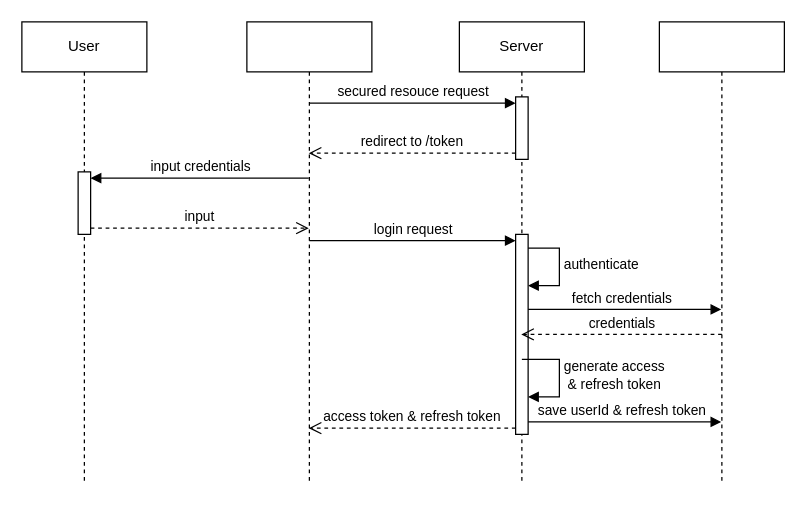
Some shapes in this 806 by 506 pixel diagram are drawn without their labels. The shapes that lost their labels are listed below. From the top down, each one's box as (x1, y1, x2, y2) in pixels, then its label:
(246, 21, 372, 484): Client
(658, 21, 784, 484): Persistence
